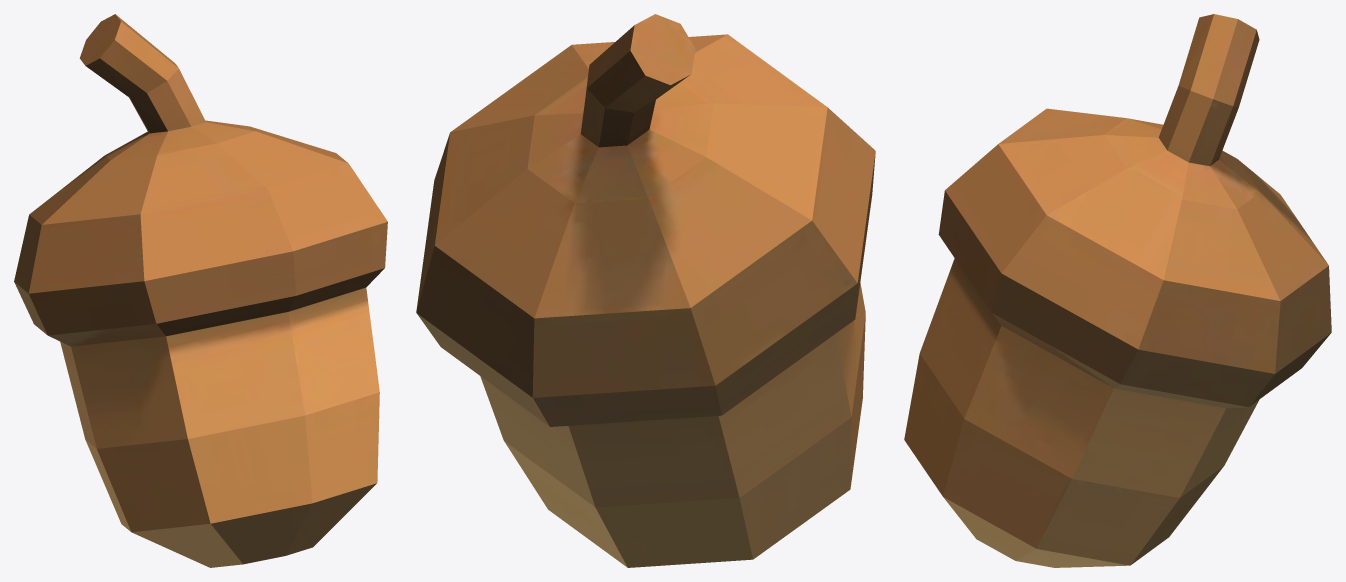
The model's file is acorn.glb.
3 views of the same model, side by side, from view 1: azimuth 30°, elevation 25°; view 2: azimuth 150°, elevation 25°; view 3: azimuth 270°, elevation 25° (orthographic). The views are drawn at different scales.
Visible parts, largest first — view 1: acorn; view 2: acorn; view 3: acorn.
Part boxes in pixels (x1,y1,x2,y2): acorn: (14, 14, 387, 567); acorn: (416, 14, 875, 567); acorn: (904, 14, 1331, 567).
Size of the model in its own units: 1.21 by 1.66 by 1.24.
1 material, 1 textured.
